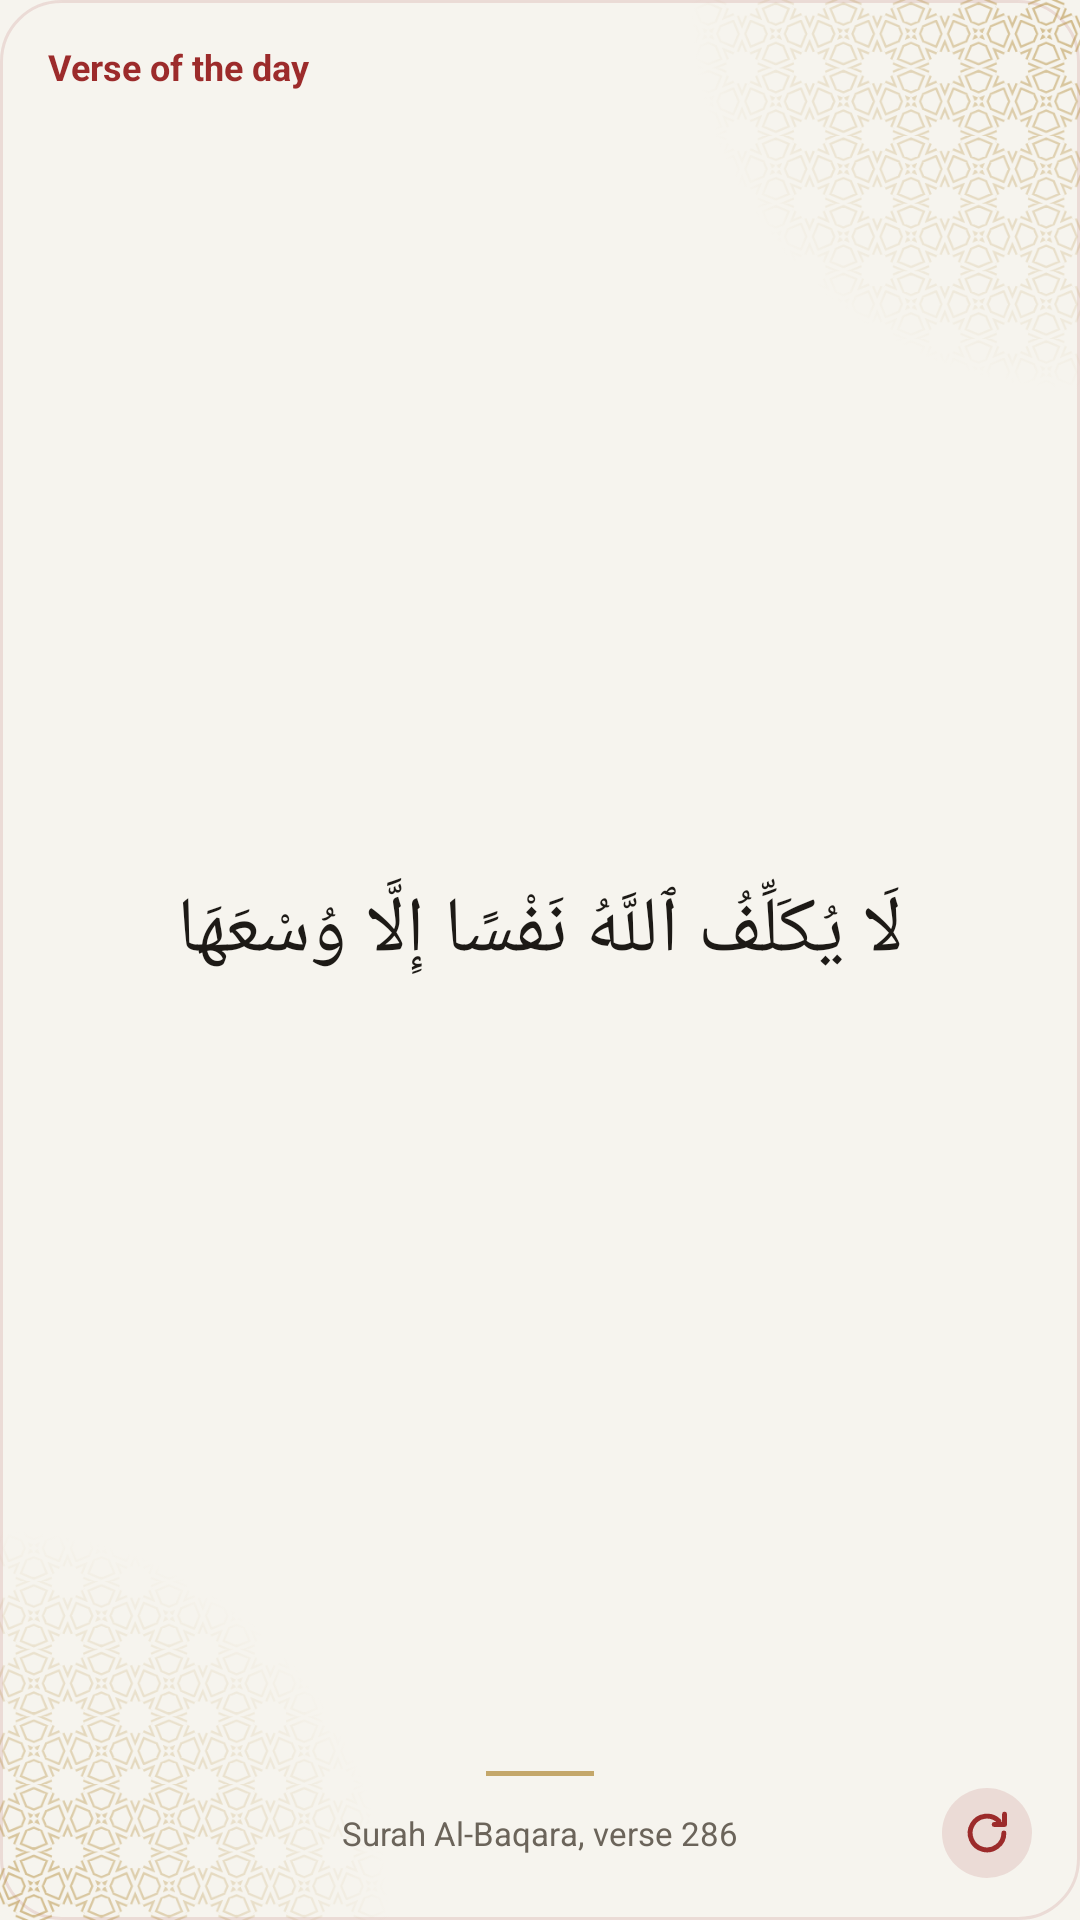

Icons on this 1080w x 1920h Android screen, each with its box as (x1, y1, x2, y2):
widget refresh: (942, 1788, 1032, 1878)
